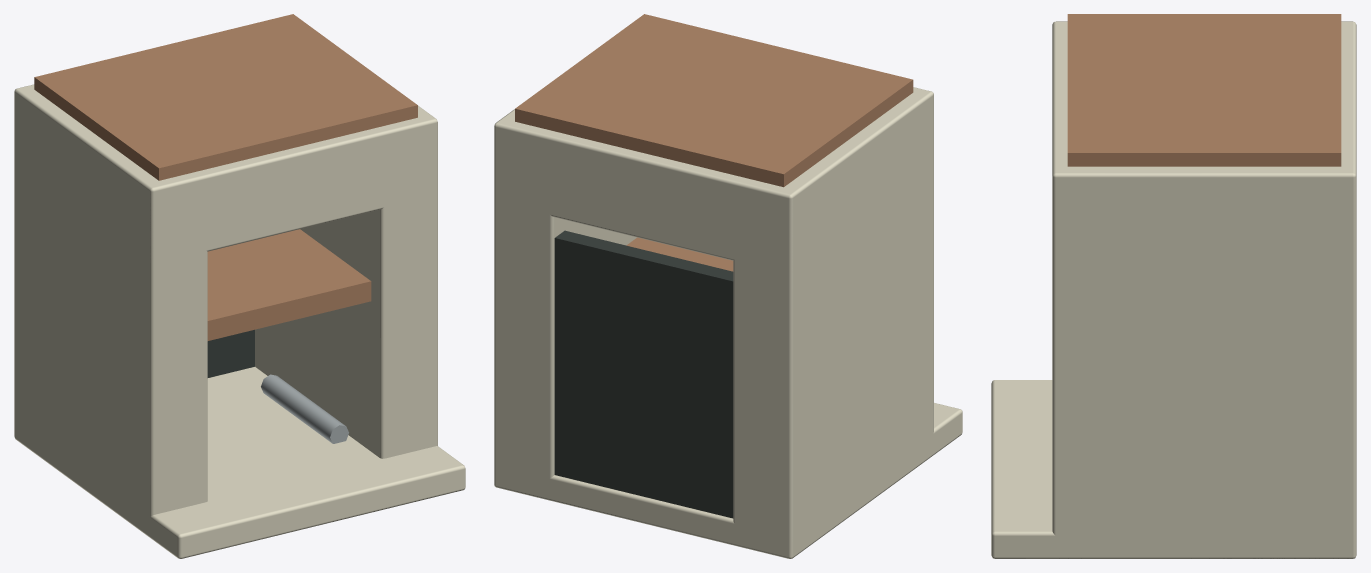
File: prehistoric-survivor-settlement-clay-baking-oven-e84e32bc__23207.glb
3 renders of one model, left to right at view 1: azimuth 30°, elevation 25°; view 2: azimuth 150°, elevation 25°; view 3: azimuth 270°, elevation 25°, orthographic. The views are drawn at different scales.
Parts seen in each view (by area): view 1: clay-baking-oven; view 2: clay-baking-oven; view 3: clay-baking-oven.
Part boxes in pixels (x1=…): clay-baking-oven: x1=14, y1=14, x2=465, y2=558; clay-baking-oven: x1=494, y1=14, x2=962, y2=558; clay-baking-oven: x1=991, y1=14, x2=1356, y2=558.
Size of the model in its own units: 1.2 by 1.45 by 1.2.
